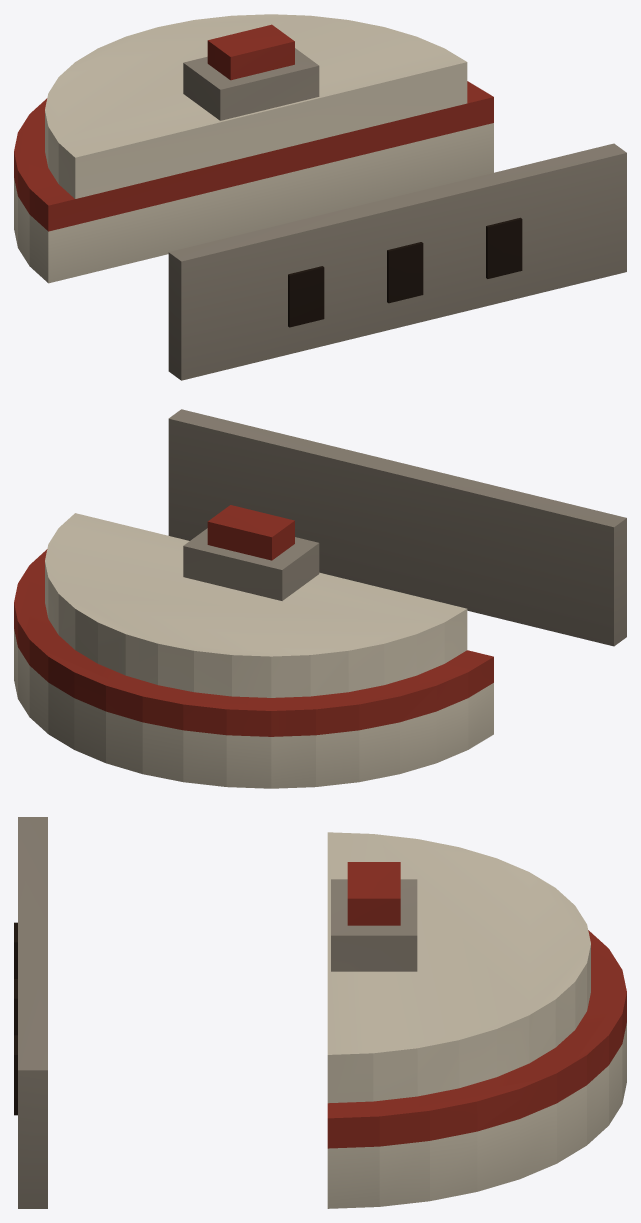
File: wari_d_temple_lod0.glb
3 renders of one model, top to bottom at view 1: azimuth 30°, elevation 25°; view 2: azimuth 150°, elevation 25°; view 3: azimuth 270°, elevation 25°, orthographic. The views are drawn at different scales.
Visible parts, largest first — view 1: GEO-Arch_wari_d_temple_LOD0; view 2: GEO-Arch_wari_d_temple_LOD0; view 3: GEO-Arch_wari_d_temple_LOD0.
Part boxes in pixels (x1,y1,x2,y2): GEO-Arch_wari_d_temple_LOD0: [14, 14, 626, 380]; GEO-Arch_wari_d_temple_LOD0: [14, 409, 626, 788]; GEO-Arch_wari_d_temple_LOD0: [14, 817, 626, 1208].
Size of the model in its own units: 18 by 6.7 by 18.43.
